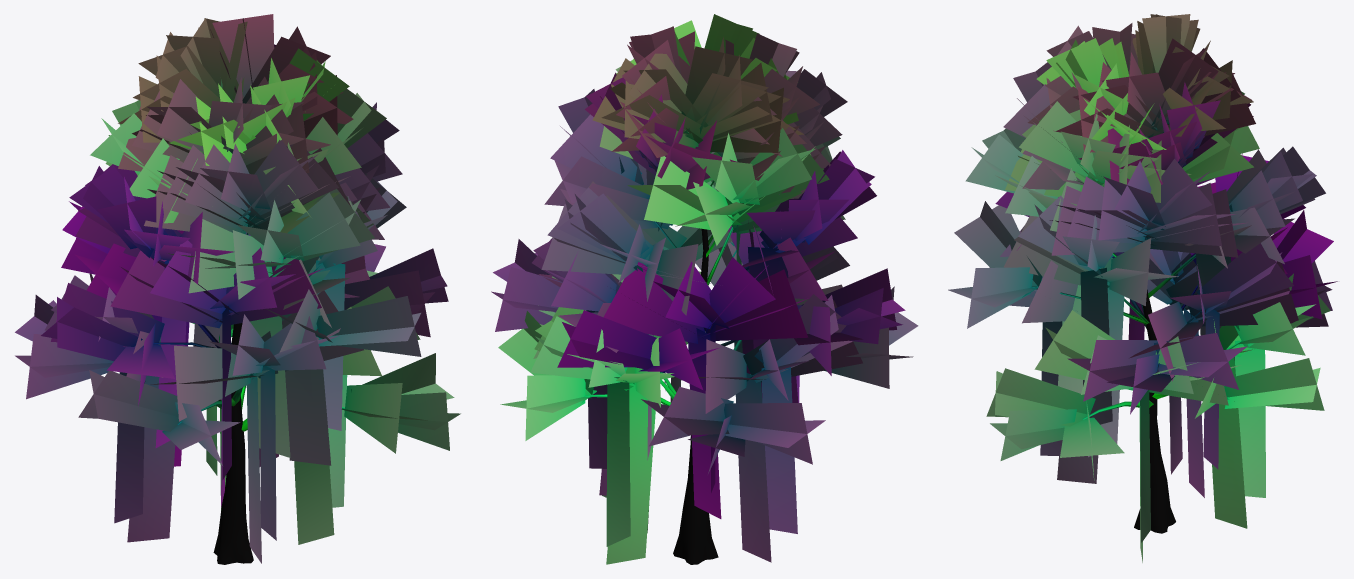
File: Tree_10_10.fbx
3 views of the same model, side by side, from view 1: azimuth 30°, elevation 25°; view 2: azimuth 150°, elevation 25°; view 3: azimuth 270°, elevation 25° (orthographic). The views are drawn at different scales.
Visible parts, largest first — view 1: _10; view 2: _10; view 3: _10.
Boxes of the visible parts, <box> form: _10: <box>15,14,460,564</box>; _10: <box>491,14,918,564</box>; _10: <box>948,14,1337,562</box>.
Bounding box in the file's own units: 1451 × 1855 × 1320.
